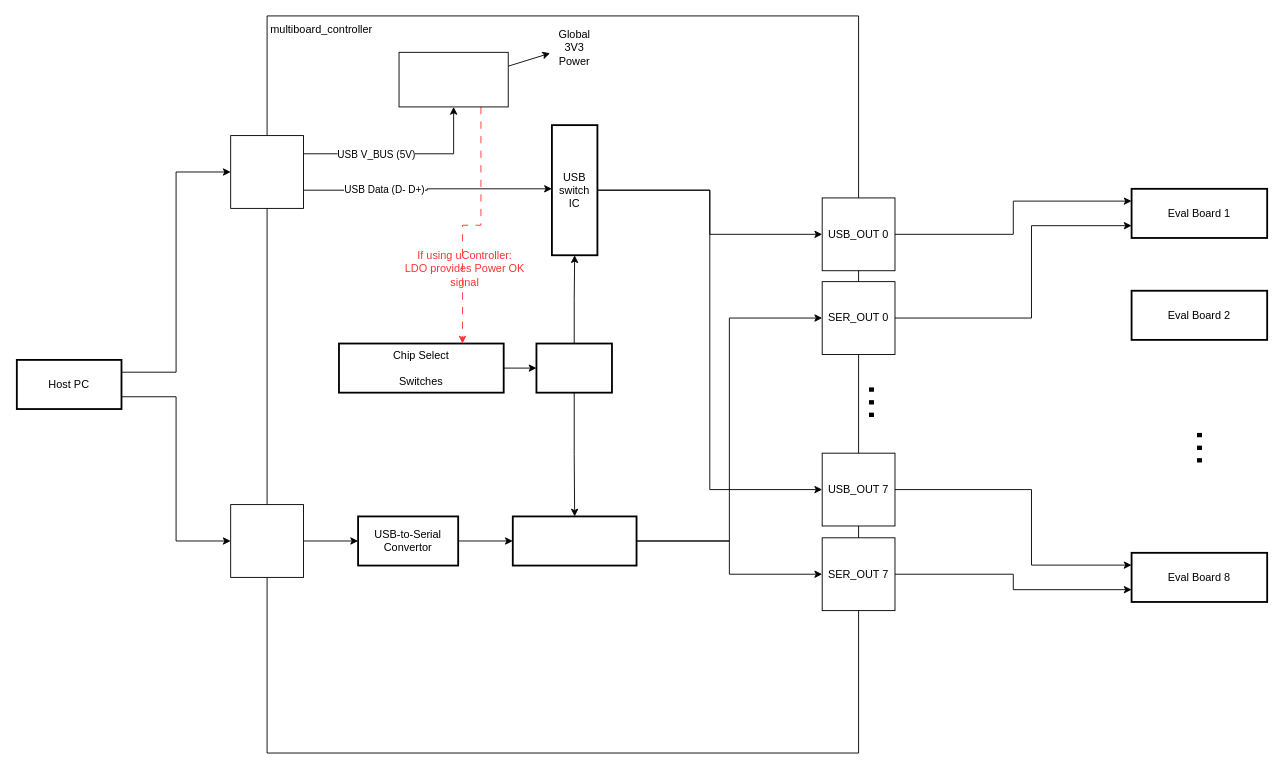
This 1283x769 diagram has some shape labels left out. Here are the shapes that lost their labels. From the top down, the centre of each, then its label:
At pixel 453 79: "LDO".
At pixel 266 171: "USB_IN 0".
At pixel 573 367: "Switching Circuit".
At pixel 266 540: "USB_IN 1".
At pixel 574 540: "Serial MUX".
